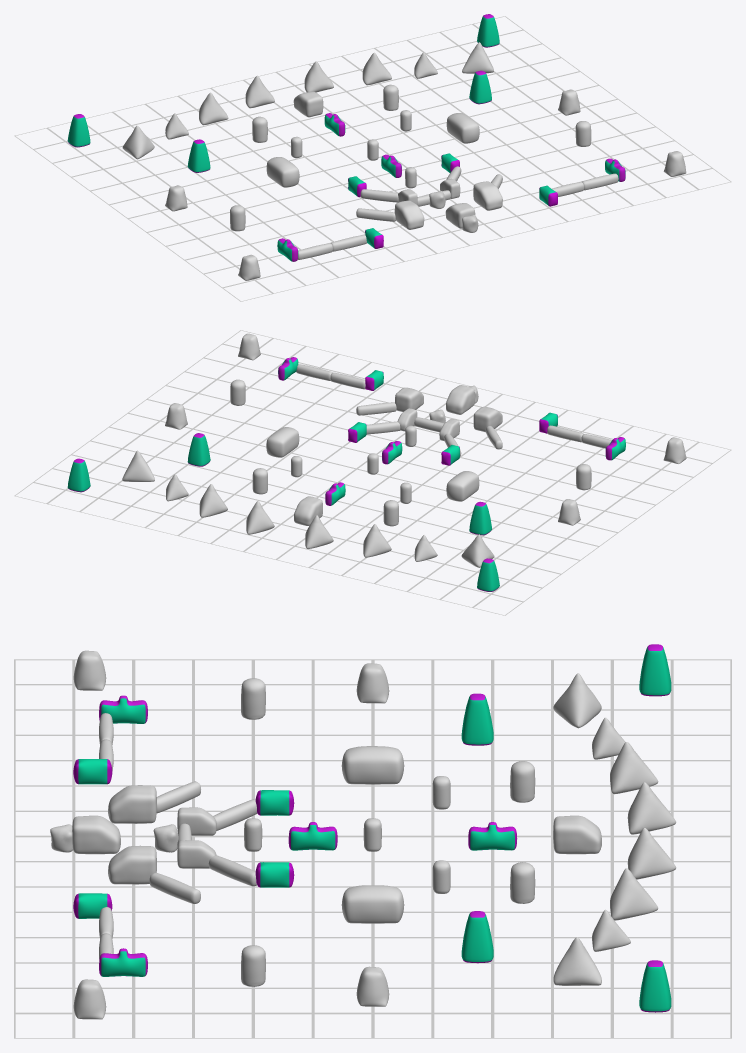
File: reference.fbx
3 views of the same model, one above another, from view 1: azimuth 30°, elevation 25°; view 2: azimuth 150°, elevation 25°; view 3: azimuth 270°, elevation 25° (orthographic). The views are drawn at different scales.
Visible parts, largest first — view 1: Tetris_M.004; view 2: Tetris_M.004; view 3: Tetris_M.004.
Part boxes in pixels (box(x1,y1,x2,y2)): Tetris_M.004: box(14, 14, 731, 301); Tetris_M.004: box(14, 330, 731, 615); Tetris_M.004: box(14, 644, 731, 1038).
Bounding box in the file's own units: 4572 × 254 × 3658.
